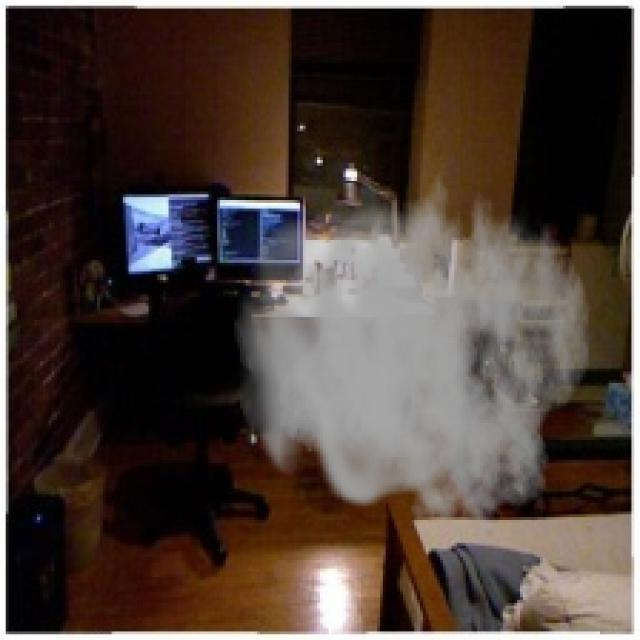smoke: (234, 154, 592, 540)
